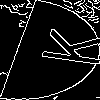K: (25, 25, 100, 68)
